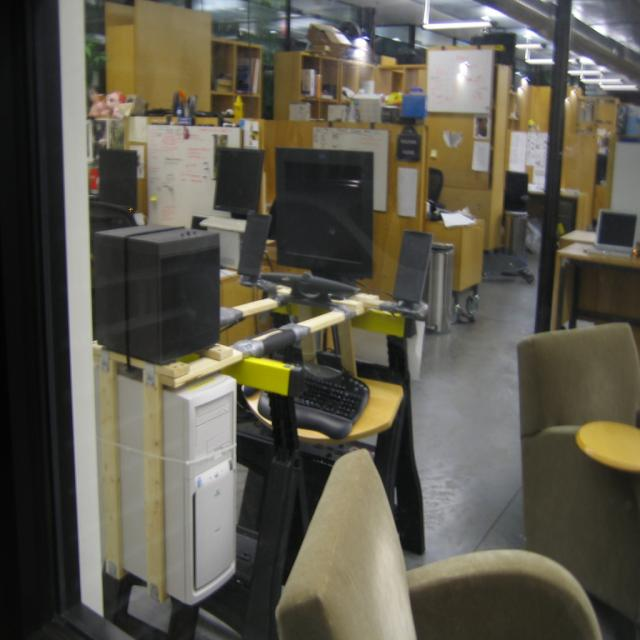chair: (280, 447, 604, 638), (518, 321, 640, 629)
desk: (539, 208, 640, 345)
keyboard: (240, 362, 370, 439)
laptop: (587, 209, 637, 255)
tv: (91, 222, 221, 366), (271, 147, 375, 286), (213, 148, 265, 216)
